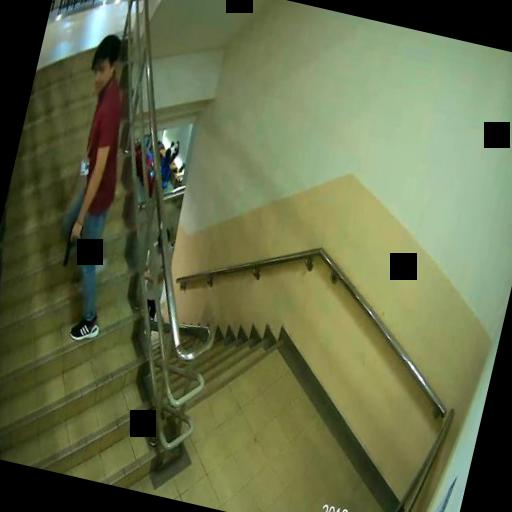Handgun: (61, 220, 83, 268)
